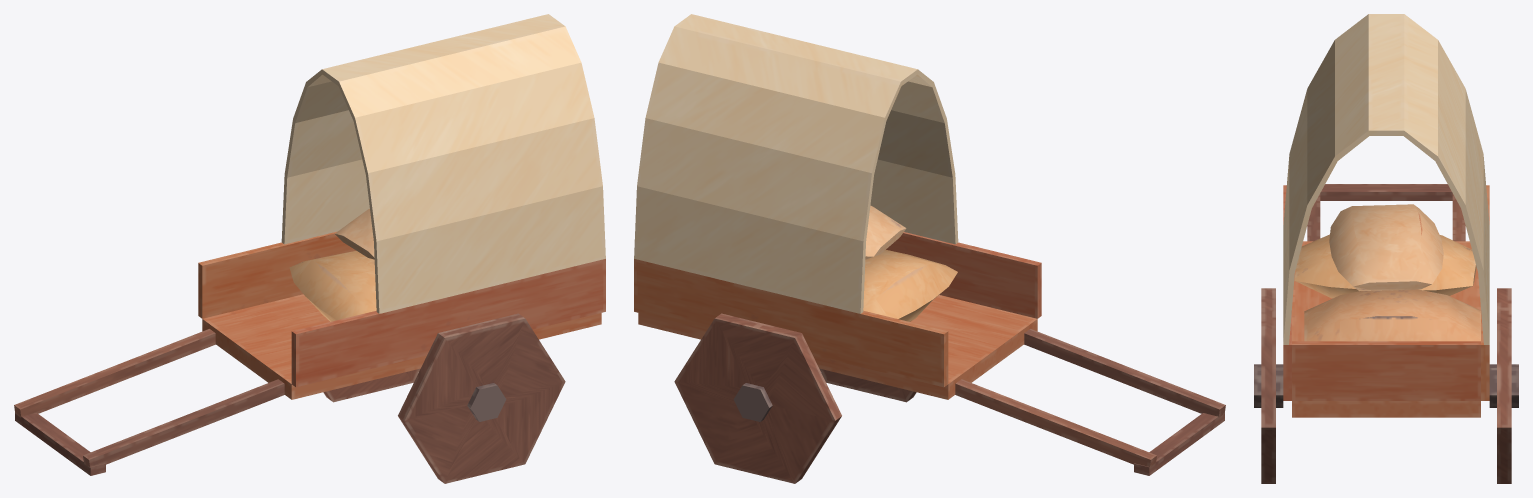
File: cart_low.fbx
3 views of the same model, side by side, from view 1: azimuth 30°, elevation 25°; view 2: azimuth 150°, elevation 25°; view 3: azimuth 270°, elevation 25° (orthographic). The views are drawn at different scales.
Parts seen in each view (by area): view 1: cart; view 2: cart; view 3: cart.
Part boxes in pixels (x1=…): cart: x1=14, y1=14, x2=605, y2=483; cart: x1=634, y1=14, x2=1225, y2=483; cart: x1=1254, y1=14, x2=1518, y2=483.
Bounding box in the file's own units: 8.48 × 6.07 × 3.64.
1 material, 1 textured.
